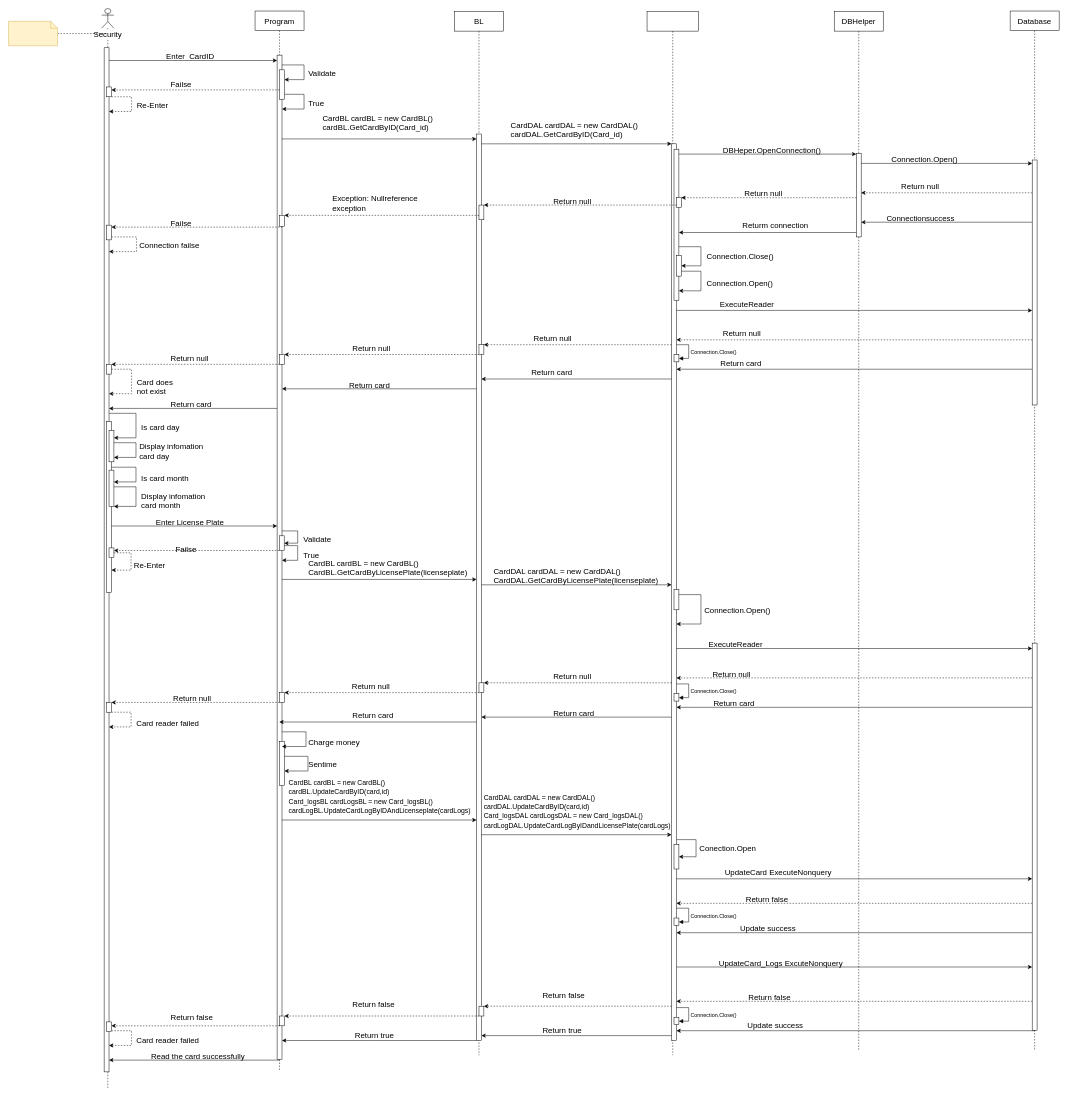
The diagram is 1068 pixels wide and 1098 high, and some of its shapes have lost their labels. The box of each missing label's shape, as (x1, y1, x2, y2) in pixels:
DAL: (647, 11, 698, 1055)
Security login: (8, 21, 58, 46)
